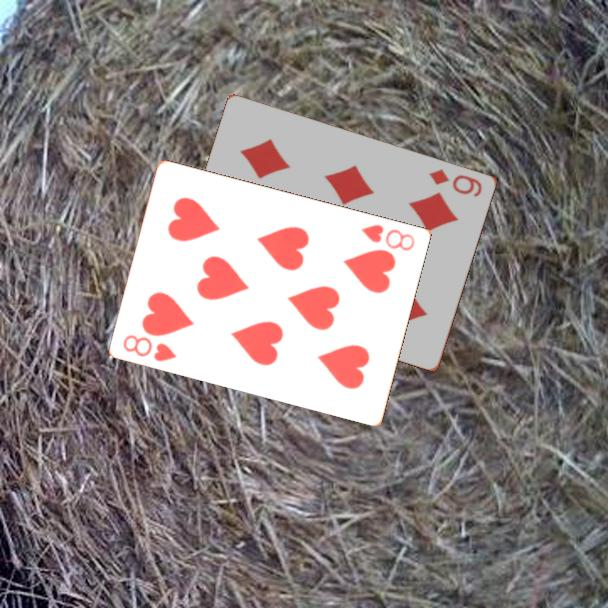d06: (426, 165, 485, 200)
h08: (358, 221, 418, 254), (120, 331, 180, 364)
